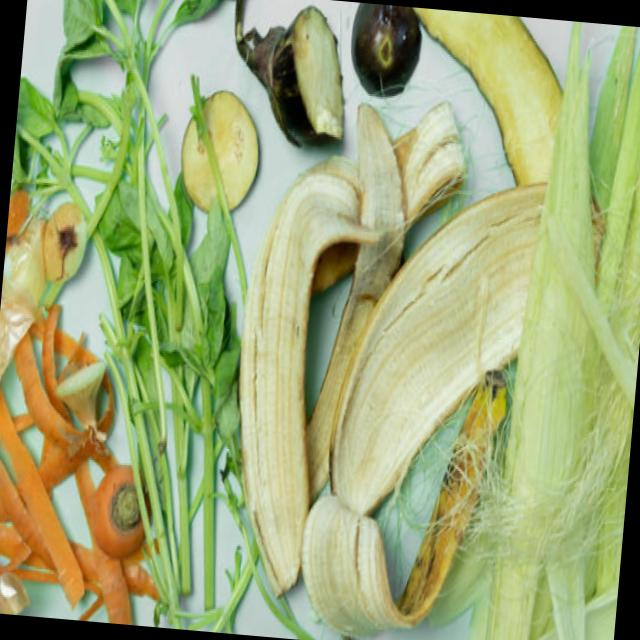paper: (236, 155, 463, 640), (510, 24, 640, 640), (107, 222, 244, 436), (217, 0, 359, 152), (36, 0, 170, 161), (165, 60, 278, 212), (18, 335, 106, 481), (74, 431, 152, 581), (334, 1, 428, 111)
